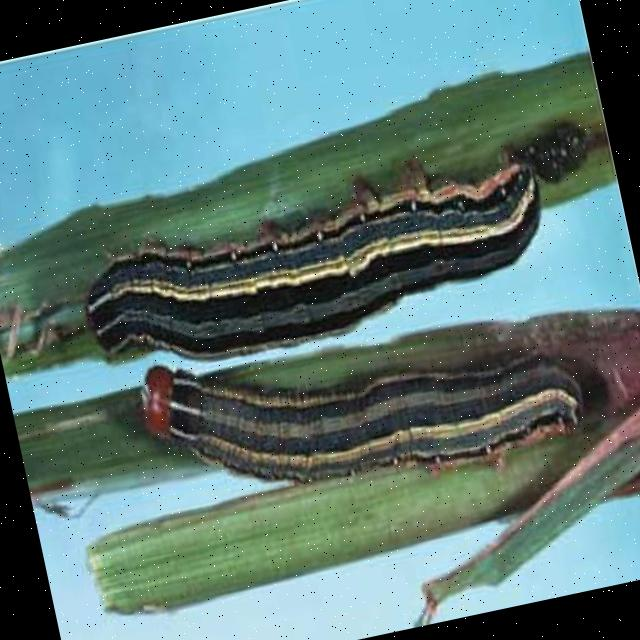worm: (67, 132, 562, 388), (130, 278, 598, 536)
